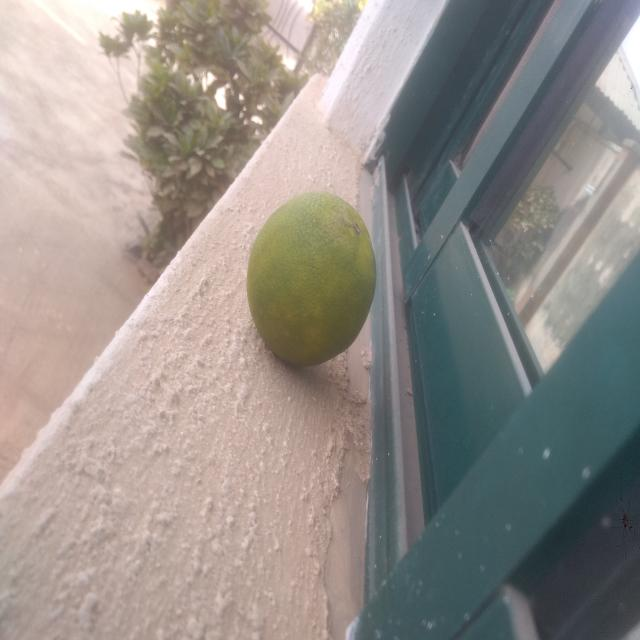Unripe: (226, 179, 402, 404)
